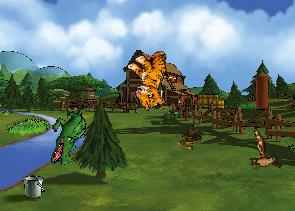crocodile: (50, 105, 86, 165)
eagle: (233, 125, 292, 182)
tiger: (120, 45, 183, 112)
